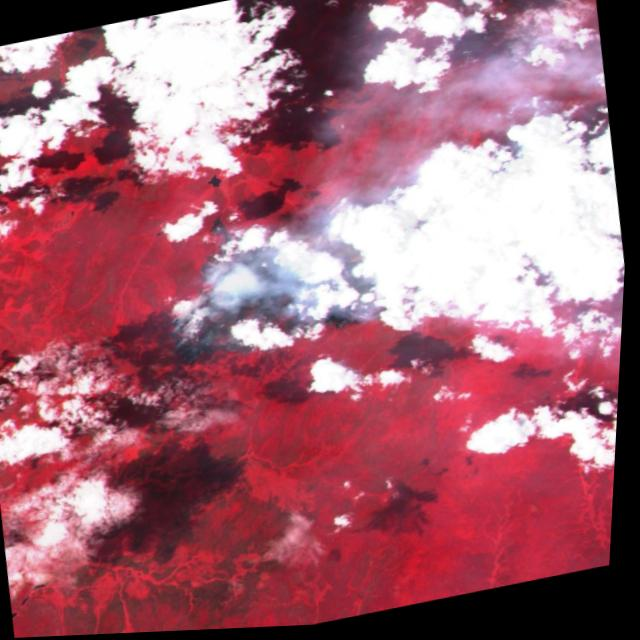fire: (154, 200, 415, 380)
